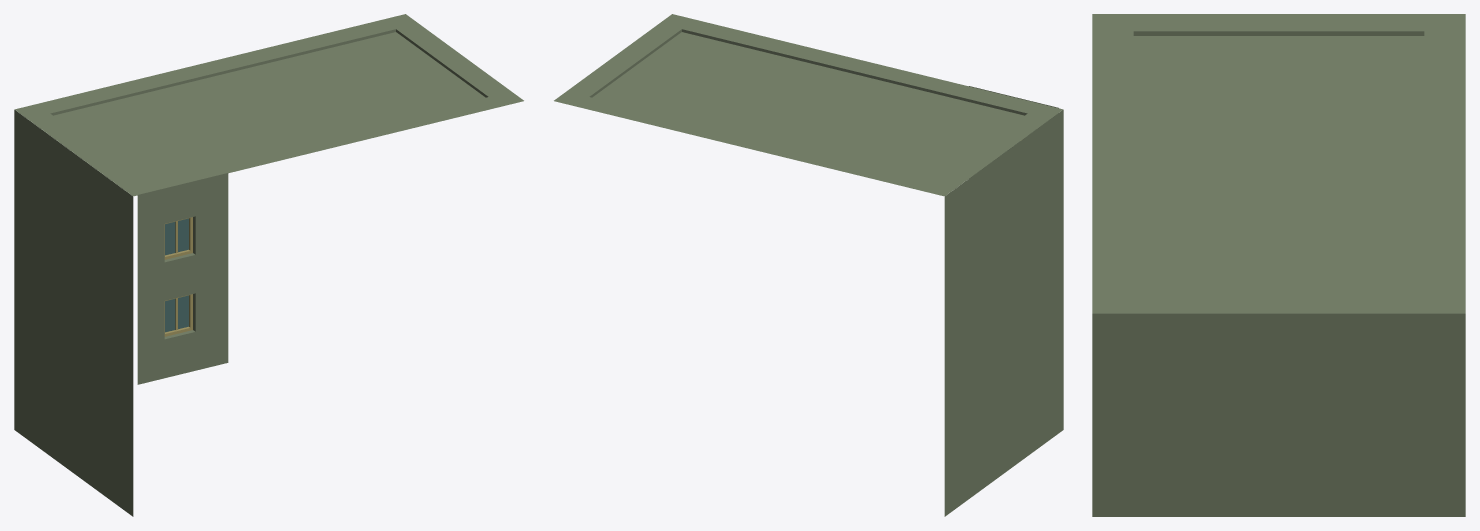
The model's file is BuildParts.fbx.
3 views of the same model, side by side, from view 1: azimuth 30°, elevation 25°; view 2: azimuth 150°, elevation 25°; view 3: azimuth 270°, elevation 25° (orthographic). The views are drawn at different scales.
Parts seen in each view (by area): view 1: Roof, Wall, Windows1; view 2: Roof, Wall; view 3: Roof, Wall.
Boxes of the visible parts, bbox=[...] form: Roof: bbox=[14, 14, 523, 196]; Wall: bbox=[14, 110, 133, 516]; Windows1: bbox=[137, 173, 228, 384]; Roof: bbox=[554, 14, 1063, 196]; Wall: bbox=[944, 110, 1063, 516]; Roof: bbox=[1092, 14, 1465, 313]; Wall: bbox=[1092, 313, 1465, 516].
Bounding box in the file's own units: 1.02 × 0.7959 × 0.5345.
